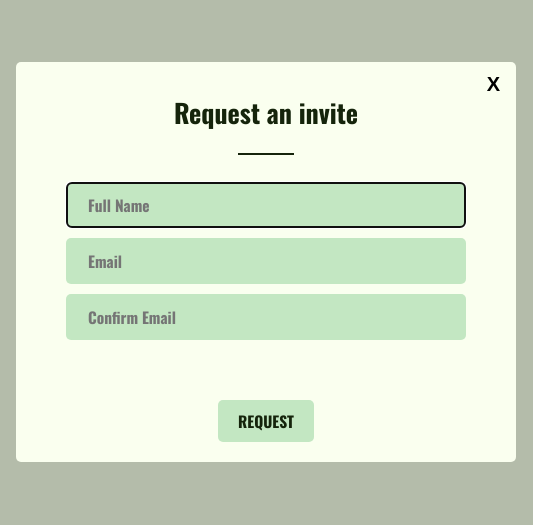
it: SignUp component › displays validation errors on submit with empty fields
Click the button "Request" at (266, 420), box [218,400,314,442]
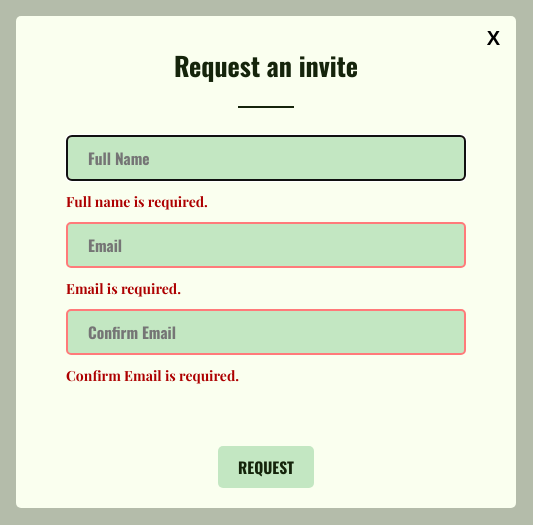
expect the text "Email is required." is shown: met, box [66,279,181,298]
expect the text "Full name is required." is shown: met, box [66,192,208,211]
expect the text "Confirm Email is required." is shown: met, box [66,366,239,385]
